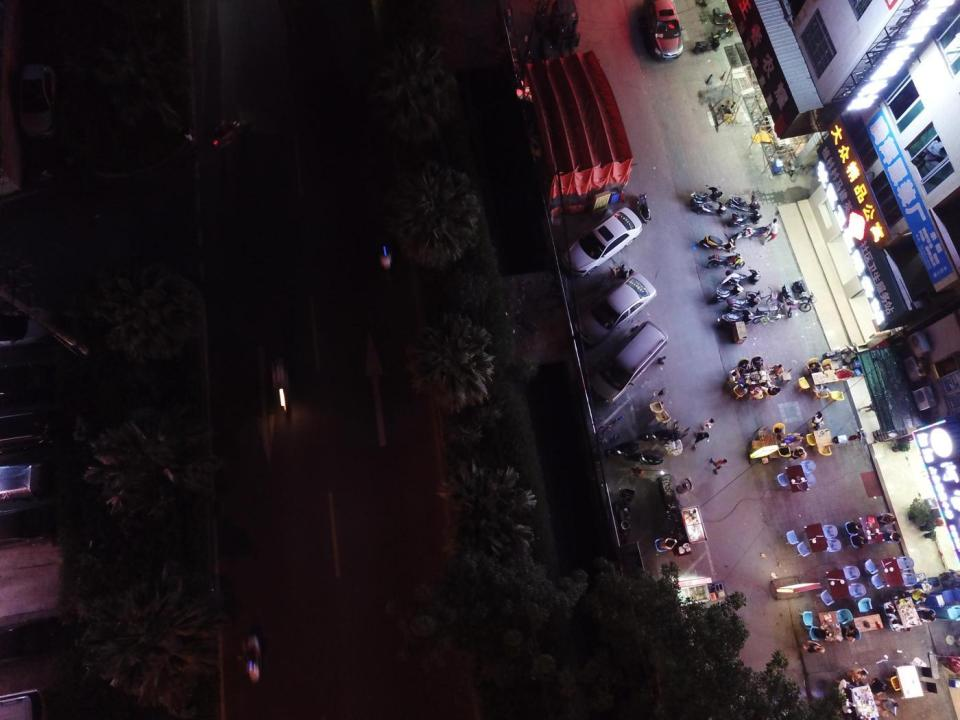car: (575, 272, 658, 346), (562, 208, 642, 278), (12, 59, 60, 140), (643, 0, 685, 60), (0, 304, 53, 348)
van: (588, 319, 669, 404)
